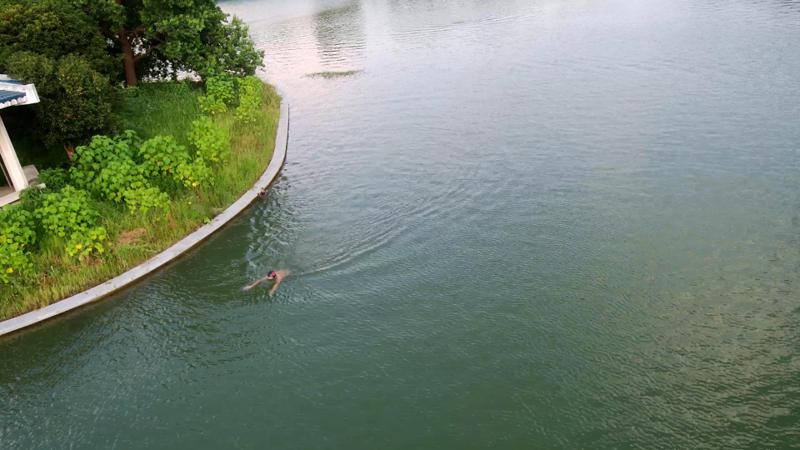swimmers: (241, 264, 296, 298)
